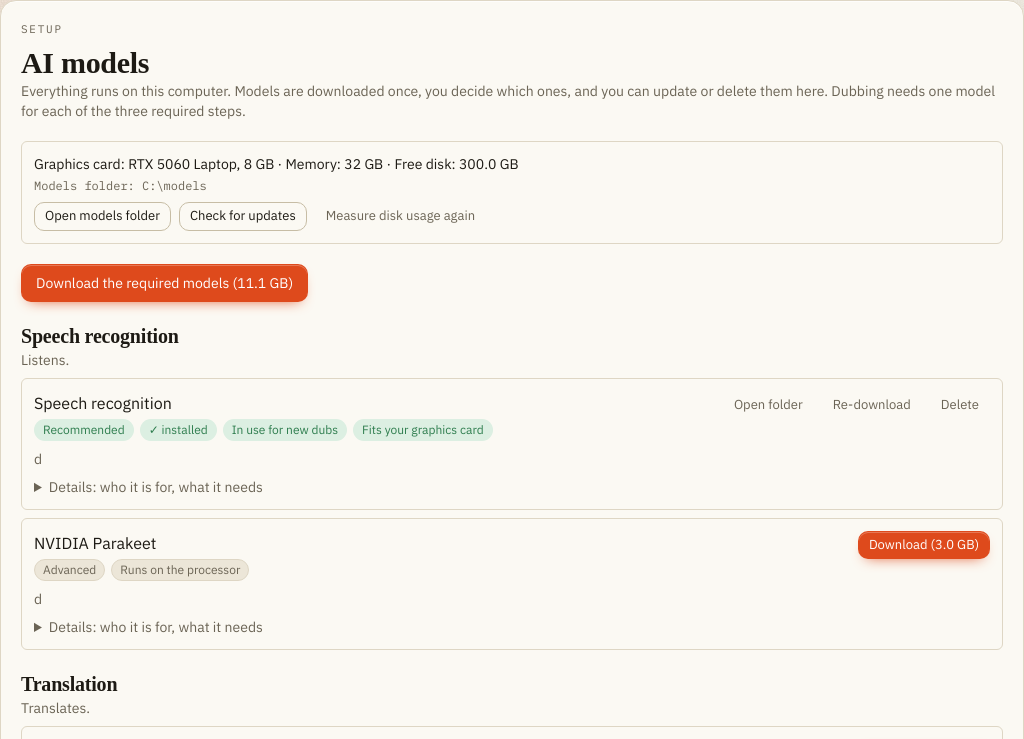
Test: ModelsPanel › checks for updates only on request and reports the result
The width and height of the screenshot is (1024, 739).
Click the button "Check for updates": (243, 216) [179,202,307,231]
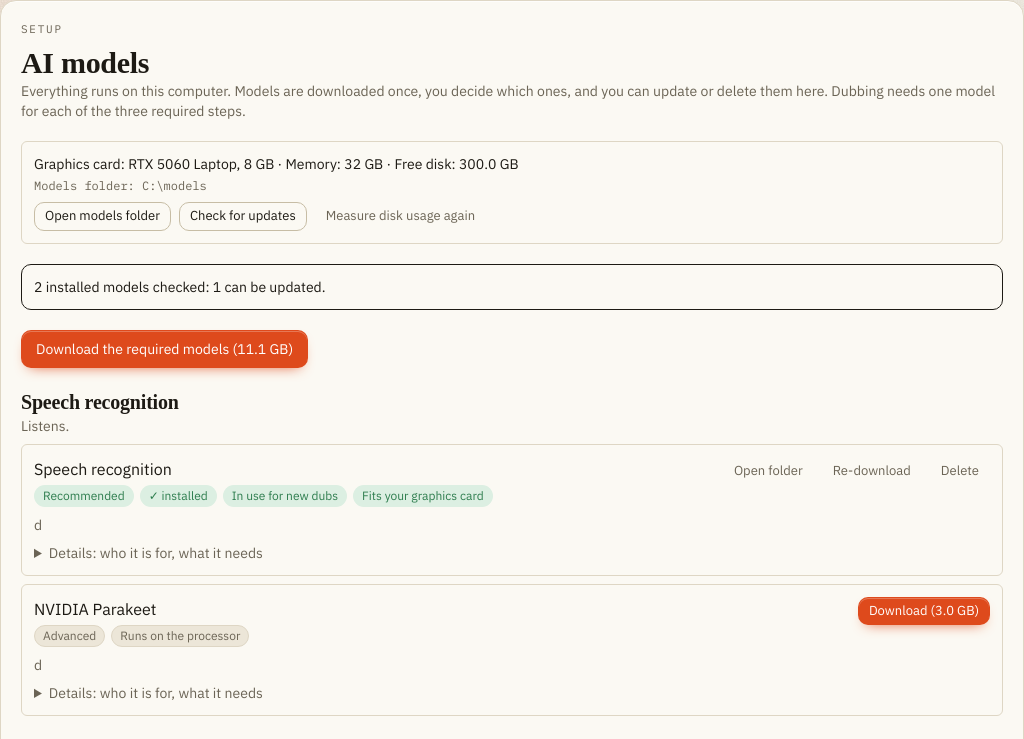
expect the text "2 installed models checked: 1 can be updated." is shown: met, box [21,264,1003,310]
